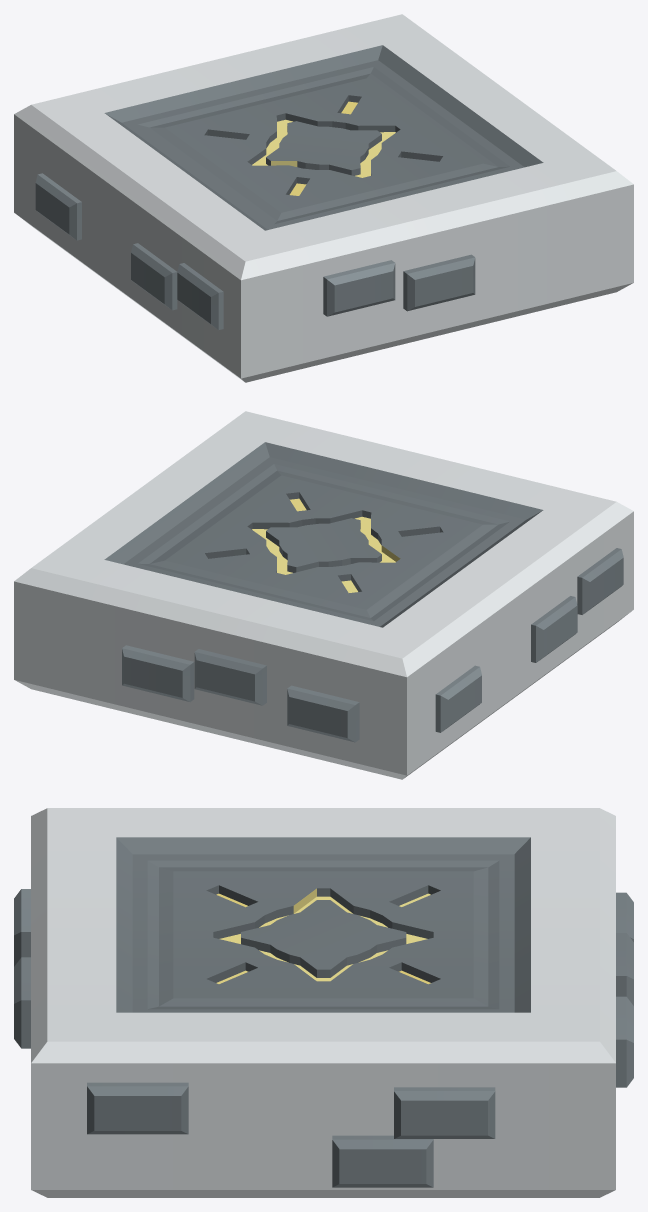
The model's file is Platform_Active.obj.
The picture shows the model from 3 angles, top to bottom: view 1: azimuth 30°, elevation 25°; view 2: azimuth 150°, elevation 25°; view 3: azimuth 270°, elevation 25°; orthographic projection. The views are drawn at different scales.
Visible parts, largest first — view 1: Cube.001; view 2: Cube.001; view 3: Cube.001.
Boxes of the visible parts, <box> form: Cube.001: <box>14,14,633,382</box>; Cube.001: <box>14,411,633,779</box>; Cube.001: <box>14,808,633,1197</box>.
Size of the model in its own units: 2.11 by 0.5891 by 2.12.
1 material, 1 textured.
